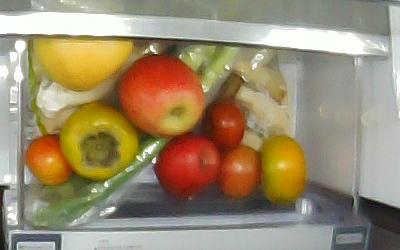apple: (118, 54, 205, 137), (153, 133, 222, 198)
grapefruit: (30, 38, 133, 92)
persimmon: (57, 103, 137, 181), (257, 135, 308, 207)
prune: (219, 144, 263, 199), (25, 135, 71, 187), (203, 99, 244, 152)
